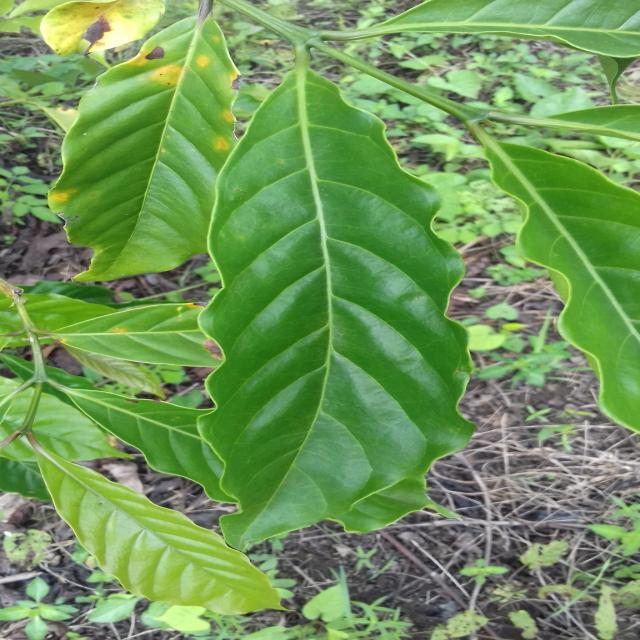Sanas: (193, 69, 477, 556)
